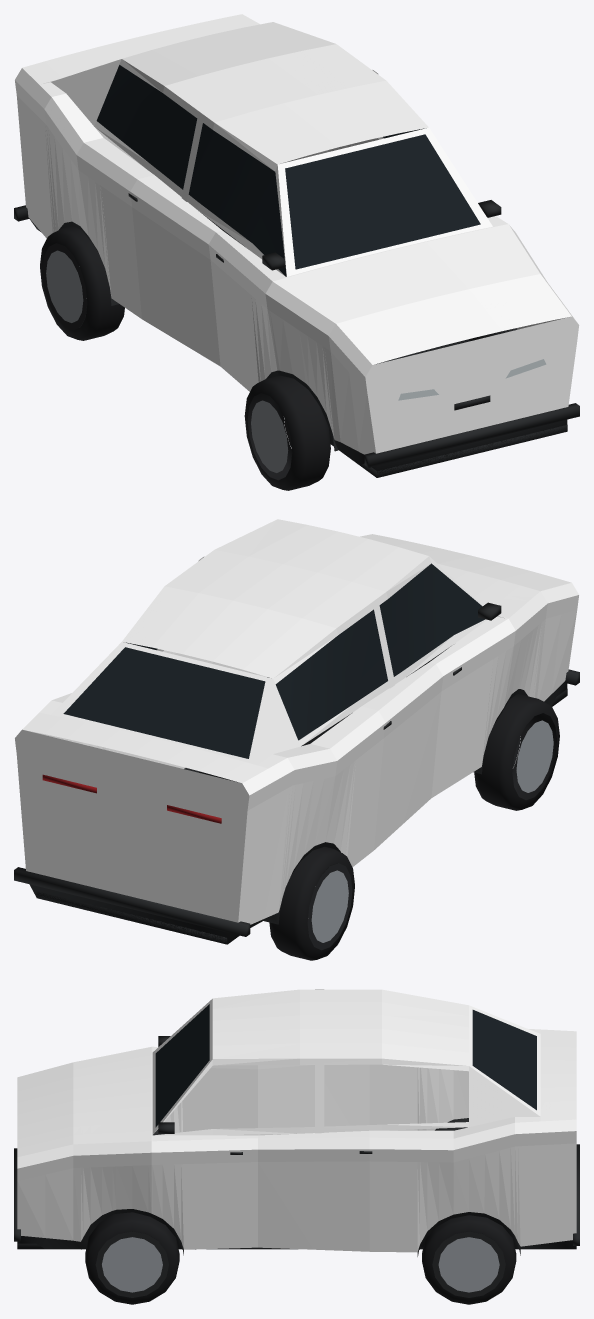
Rendered from ishigumo_matagal.glb.
The picture shows the model from 3 angles, top to bottom: view 1: azimuth 30°, elevation 25°; view 2: azimuth 150°, elevation 25°; view 3: azimuth 270°, elevation 25°; orthographic projection. The views are drawn at different scales.
Parts seen in each view (by area): view 1: Body_Paint, Body_Details, Mount_FrontLeft_Wheel_Details, Mount_RearLeft_Wheel_Details; view 2: Body_Paint, Body_Details, Mount_FrontLeft_Wheel_Details, Mount_RearLeft_Wheel_Details; view 3: Body_Paint, Body_Details, Mount_FrontRight_Wheel_Details, Mount_RearRight_Wheel_Details.
Part boxes in pixels (bbox=[...]): Body_Paint: bbox=[15, 14, 579, 454]; Body_Details: bbox=[14, 65, 579, 477]; Mount_FrontLeft_Wheel_Details: bbox=[244, 375, 330, 490]; Mount_RearLeft_Wheel_Details: bbox=[40, 226, 124, 340]; Body_Paint: bbox=[15, 519, 578, 924]; Body_Details: bbox=[14, 563, 579, 944]; Mount_FrontLeft_Wheel_Details: bbox=[474, 694, 559, 810]; Mount_RearLeft_Wheel_Details: bbox=[269, 846, 354, 960]; Body_Paint: bbox=[17, 989, 576, 1252]; Body_Details: bbox=[14, 1004, 579, 1256]; Mount_FrontRight_Wheel_Details: bbox=[85, 1212, 179, 1304]; Mount_RearRight_Wheel_Details: bbox=[422, 1215, 516, 1304].
Bounding box in the file's own units: 2.01 × 2.04 × 4.51.
Materials: 2 (1 with a texture image).
